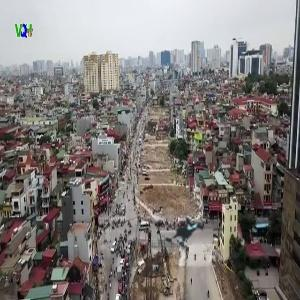drone: (147, 195, 224, 272)
